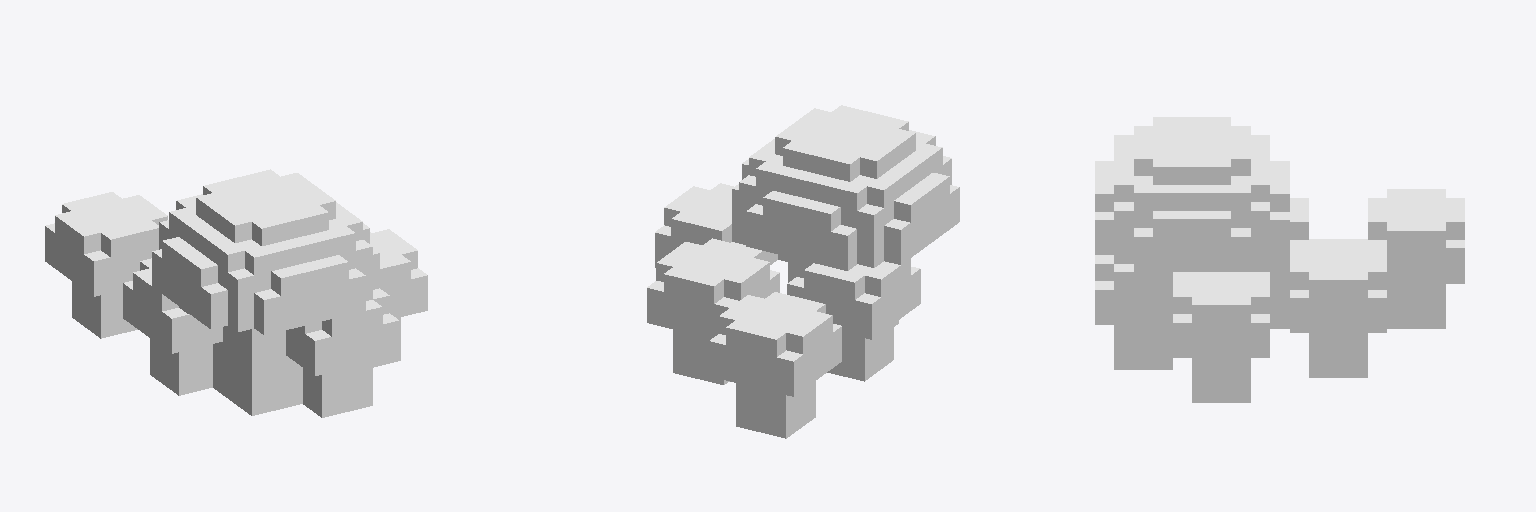
Rendered from cog-2.obj.
The picture shows the model from 3 angles: view 1: azimuth 30°, elevation 25°; view 2: azimuth 150°, elevation 25°; view 3: azimuth 270°, elevation 25°; orthographic projection.
Visible parts, largest first — view 1: object 1; view 2: object 1; view 3: object 1.
Part boxes in pixels (x1,y1,x2,y2): object 1: (45,169,427,417); object 1: (647,105,959,438); object 1: (1095,117,1464,402).
Size of the model in its own units: 1.4 by 1.1 by 1.9.